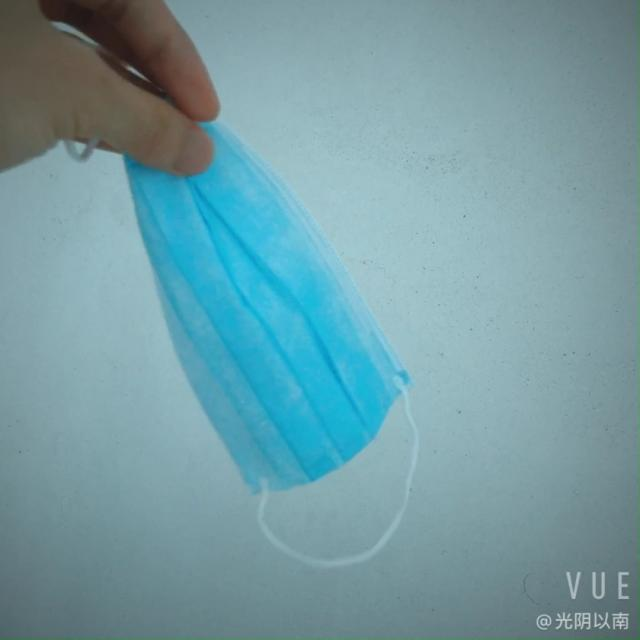non-organic waste: (125, 128, 430, 506)
